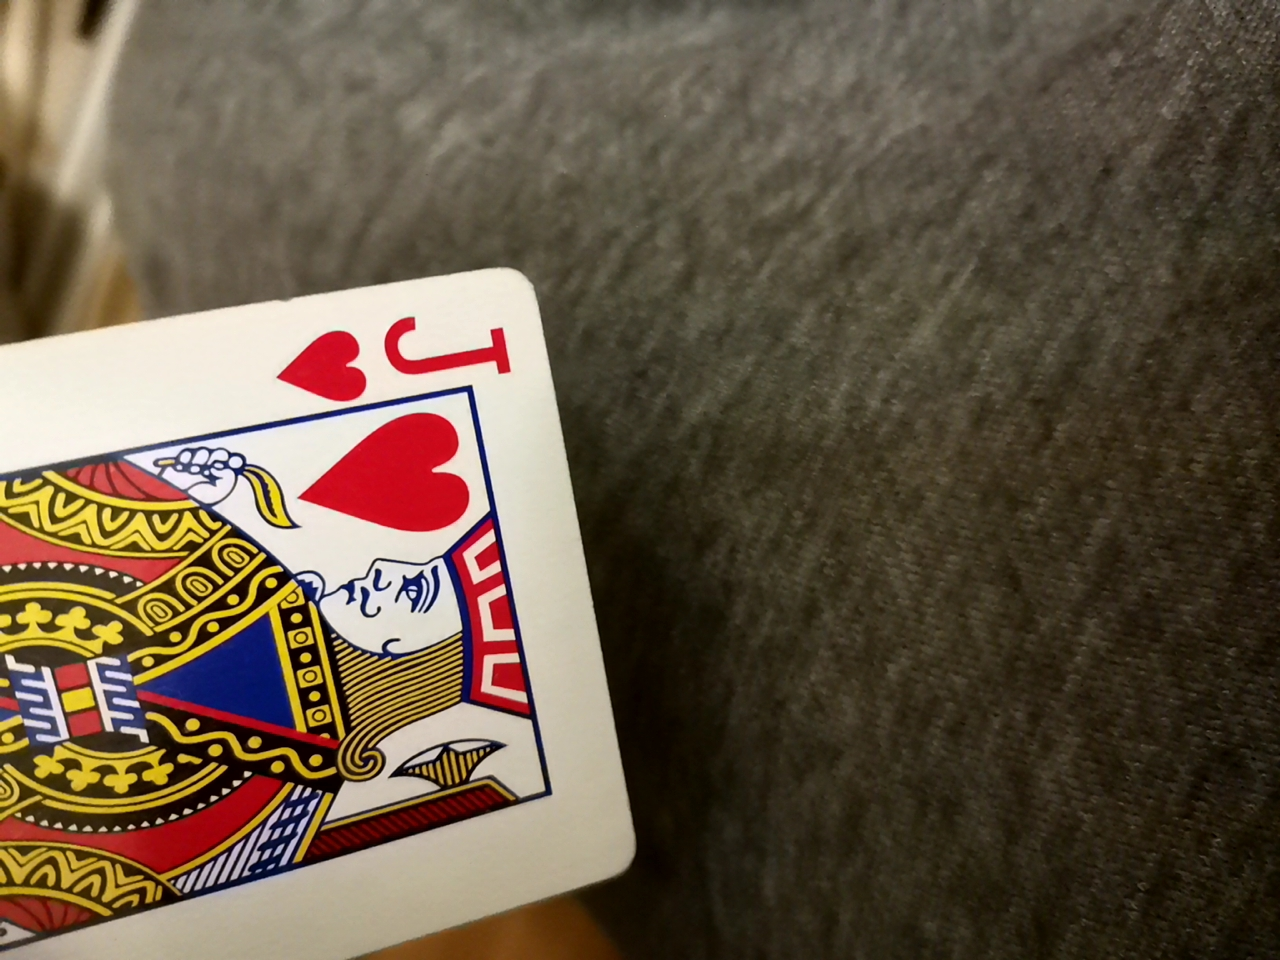hx j: (0, 276, 643, 952)
